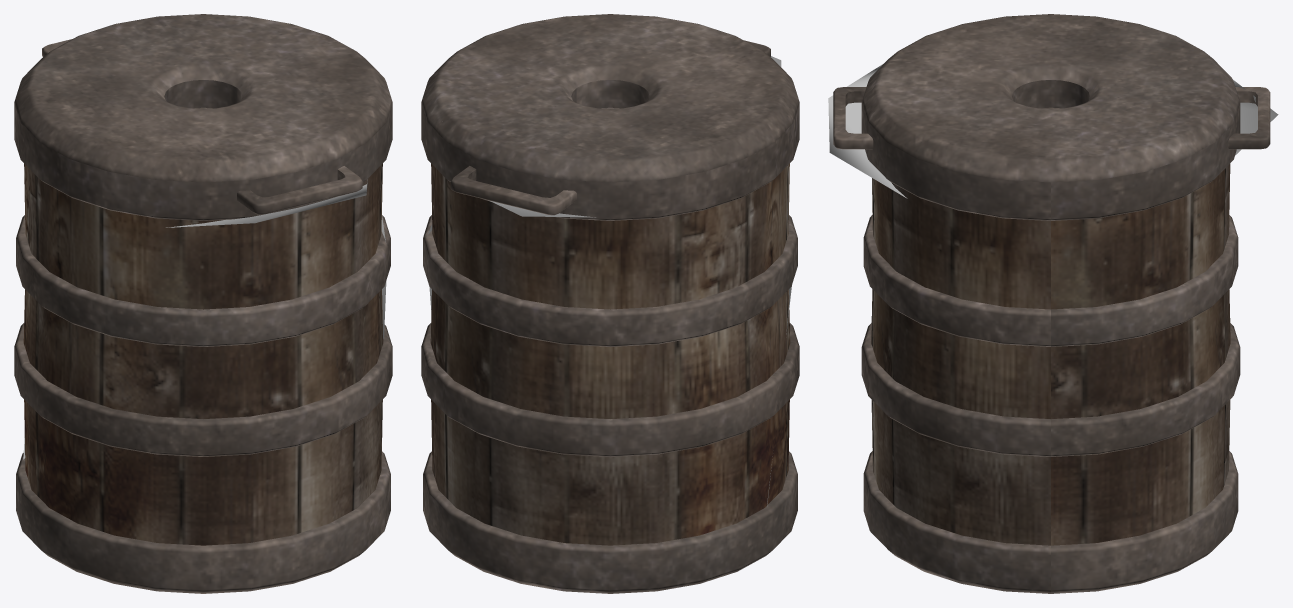
Rendered from SM_Wooden_Barrel_02a.gltf.
3 views of the same model, side by side, from view 1: azimuth 30°, elevation 25°; view 2: azimuth 150°, elevation 25°; view 3: azimuth 270°, elevation 25° (orthographic).
Parts seen in each view (by area): view 1: SM_Wooden_Barrel_02a_LOD0, SM_Wooden_Barrel_02a_ConvexHulls; view 2: SM_Wooden_Barrel_02a_LOD0, SM_Wooden_Barrel_02a_ConvexHulls; view 3: SM_Wooden_Barrel_02a_LOD0, SM_Wooden_Barrel_02a_ConvexHulls.
Part boxes in pixels (box(x1,y1,x2,y2)): SM_Wooden_Barrel_02a_LOD0: box(14, 14, 392, 593); SM_Wooden_Barrel_02a_ConvexHulls: box(23, 179, 386, 459); SM_Wooden_Barrel_02a_LOD0: box(421, 14, 799, 593); SM_Wooden_Barrel_02a_ConvexHulls: box(426, 56, 791, 506); SM_Wooden_Barrel_02a_LOD0: box(833, 14, 1270, 593); SM_Wooden_Barrel_02a_ConvexHulls: box(828, 64, 1278, 198).
Size of what is drawn, in the model's own units: 0.6046 by 0.7598 by 0.7192.
Materials: 3 (2 with a texture image).
